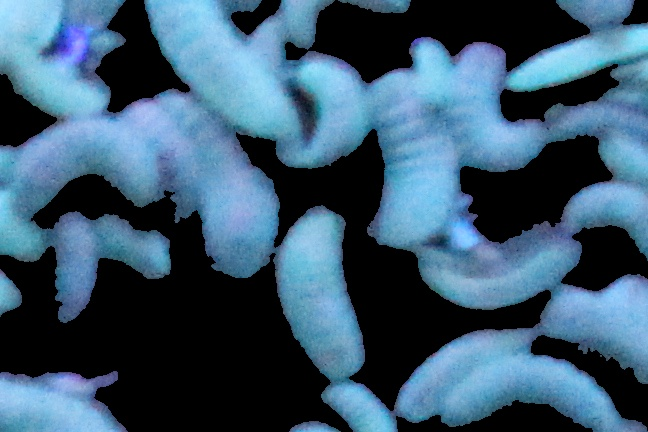larvae: (147, 1, 296, 135), (173, 94, 279, 272), (370, 69, 457, 242), (445, 354, 612, 432), (398, 318, 530, 415), (8, 118, 162, 201), (452, 40, 541, 171), (285, 212, 350, 386), (417, 235, 577, 303), (295, 53, 367, 167), (2, 370, 121, 432), (553, 175, 648, 252), (5, 48, 108, 115), (50, 213, 96, 318), (100, 214, 170, 282)
